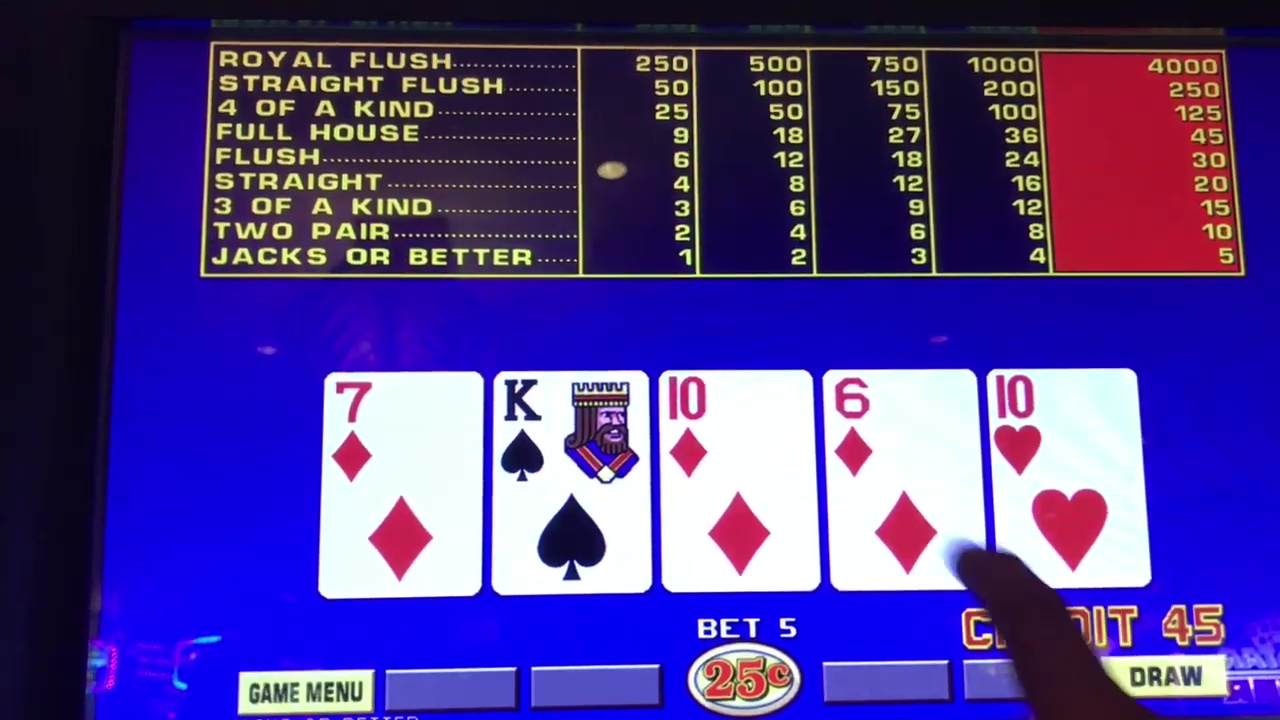D6: (828, 372, 975, 490)
D7: (329, 371, 476, 493)
DT: (665, 371, 810, 491)
HT: (990, 371, 1143, 488)
SK: (494, 372, 650, 492)
